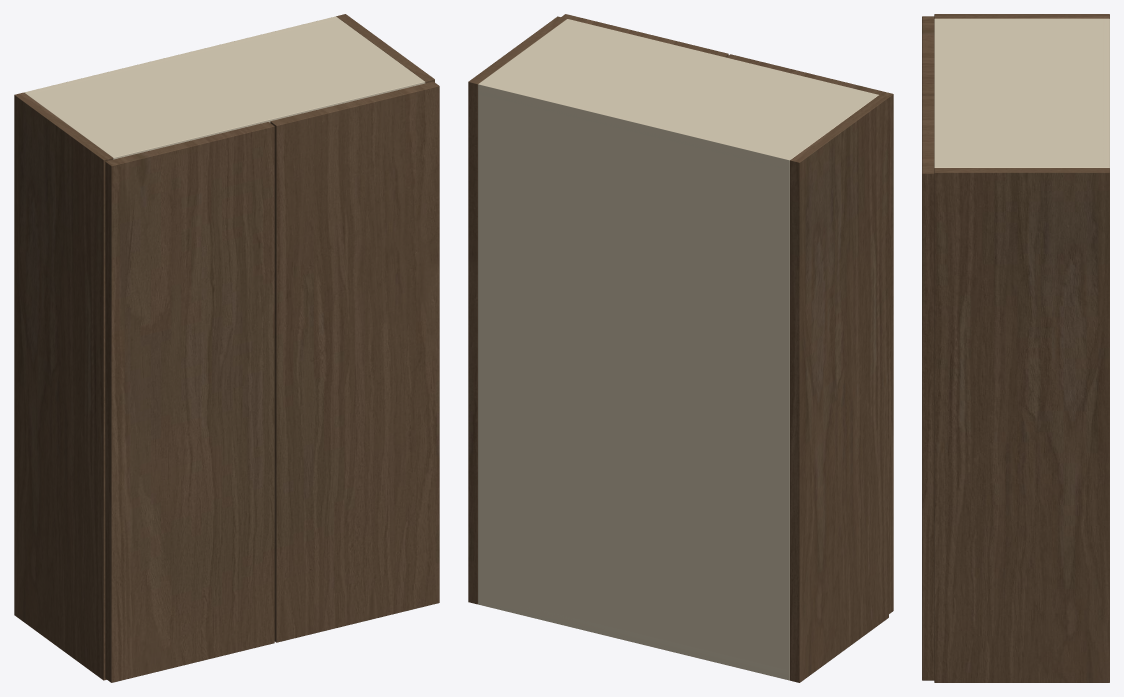
The model's file is oppein-ply-mso-w2436.glb.
3 views of the same model, side by side, from view 1: azimuth 30°, elevation 25°; view 2: azimuth 150°, elevation 25°; view 3: azimuth 270°, elevation 25° (orthographic).
Visible parts, largest first — view 1: Door, Door.001, Cabinet side, Cabinet top, Cabinet back, Cabinet side.001; view 2: Cabinet back, Cabinet side, Cabinet top, Cabinet side.001, Door, Cabinet bottom, Door.001; view 3: Cabinet side.001, Cabinet top, Door.001, Cabinet back, Door, Cabinet side.
Boxes of the visible parts, <box> form: Door: <box>105,122,274,682</box>; Door.001: <box>270,81,439,642</box>; Cabinet side: <box>14,92,113,680</box>; Cabinet top: <box>25,17,425,159</box>; Cabinet back: <box>24,16,338,94</box>; Cabinet side.001: <box>336,14,434,83</box>; Cabinet back: <box>478,81,792,670</box>; Cabinet side: <box>790,95,888,682</box>; Cabinet top: <box>478,19,878,168</box>; Cabinet side.001: <box>468,16,566,604</box>; Door: <box>726,54,893,613</box>; Cabinet bottom: <box>478,599,789,680</box>; Door.001: <box>561,14,728,57</box>; Cabinet side.001: <box>934,168,1109,682</box>; Cabinet top: <box>934,18,1109,167</box>; Door.001: <box>922,95,934,680</box>; Cabinet back: <box>1103,18,1109,167</box>; Door: <box>922,16,934,95</box>; Cabinet side: <box>934,14,1109,18</box>.
Size of the model in its own units: 0.6096 by 0.9144 by 0.3048.
Materials: 2 (1 with a texture image).
